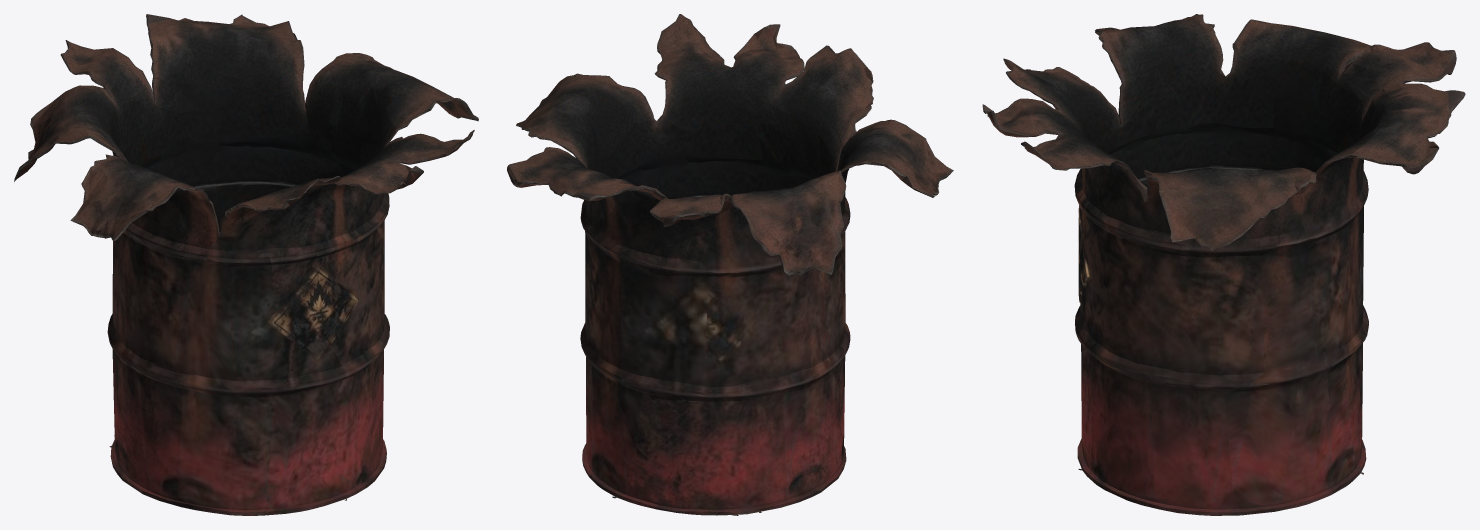
Rendered from fuel_drum_wreck.glb.
The picture shows the model from 3 angles, left to right: view 1: azimuth 30°, elevation 25°; view 2: azimuth 150°, elevation 25°; view 3: azimuth 270°, elevation 25°; orthographic projection. The views are drawn at different scales.
Visible parts, largest first — view 1: Mesh_0; view 2: Mesh_0; view 3: Mesh_0.
Boxes of the visible parts, x1,y1,x2,y2 form: Mesh_0: [14, 14, 478, 515]; Mesh_0: [507, 14, 953, 515]; Mesh_0: [982, 14, 1465, 515].
Bounding box in the file's own units: 1.9 × 1.61 × 1.86.
Materials: 1 (1 with a texture image).
